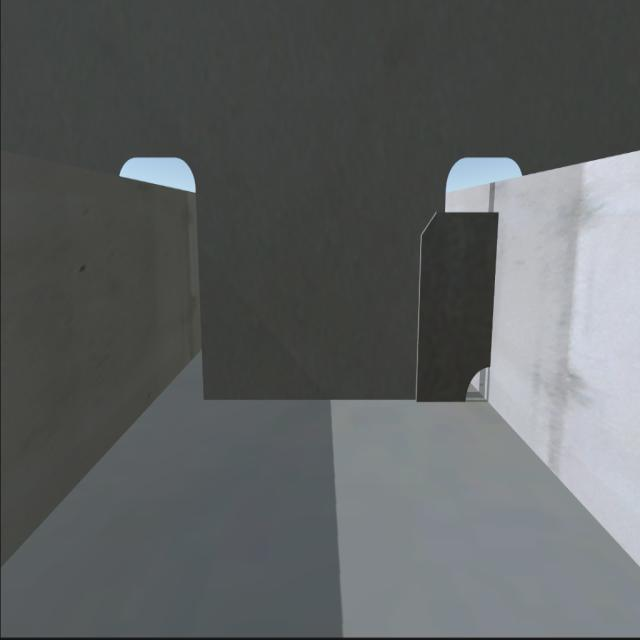fillet_hole: (462, 362, 492, 403)
fillet_yong_jeop_jang: (202, 394, 465, 408)
longi_yong_jeop_jang: (488, 214, 504, 364)
plate_CP03: (416, 212, 496, 398)
